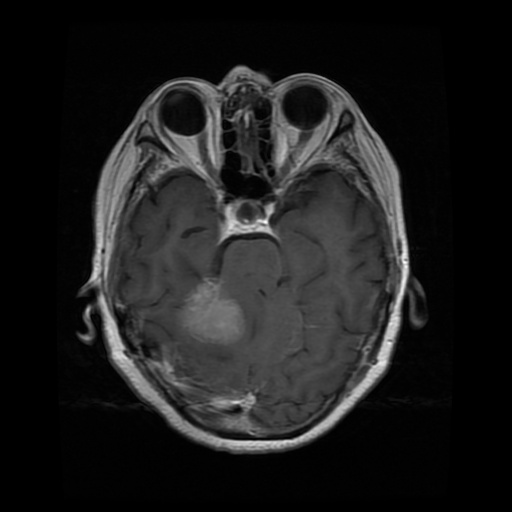meningioma: (182, 275, 245, 344)
